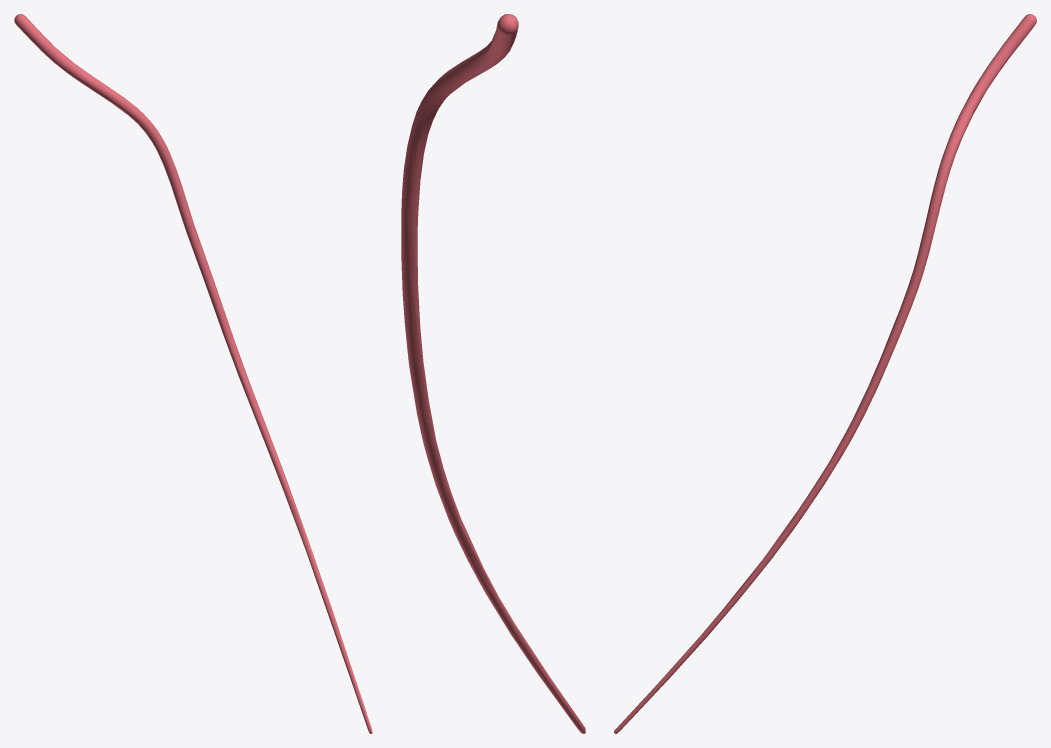
Rendered from fma85102_fj2351.glb.
3 renders of one model, left to right at view 1: azimuth 30°, elevation 25°; view 2: azimuth 150°, elevation 25°; view 3: azimuth 270°, elevation 25°, orthographic. The views are drawn at different scales.
Visible parts, largest first — view 1: FMA85102_FJ2351; view 2: FMA85102_FJ2351; view 3: FMA85102_FJ2351.
Boxes of the visible parts, x1,y1,x2,y2 form: FMA85102_FJ2351: (14, 14, 372, 733); FMA85102_FJ2351: (401, 14, 585, 733); FMA85102_FJ2351: (614, 14, 1036, 733).
Size of the model in its own units: 0.0212 by 0.0769 by 0.046.
